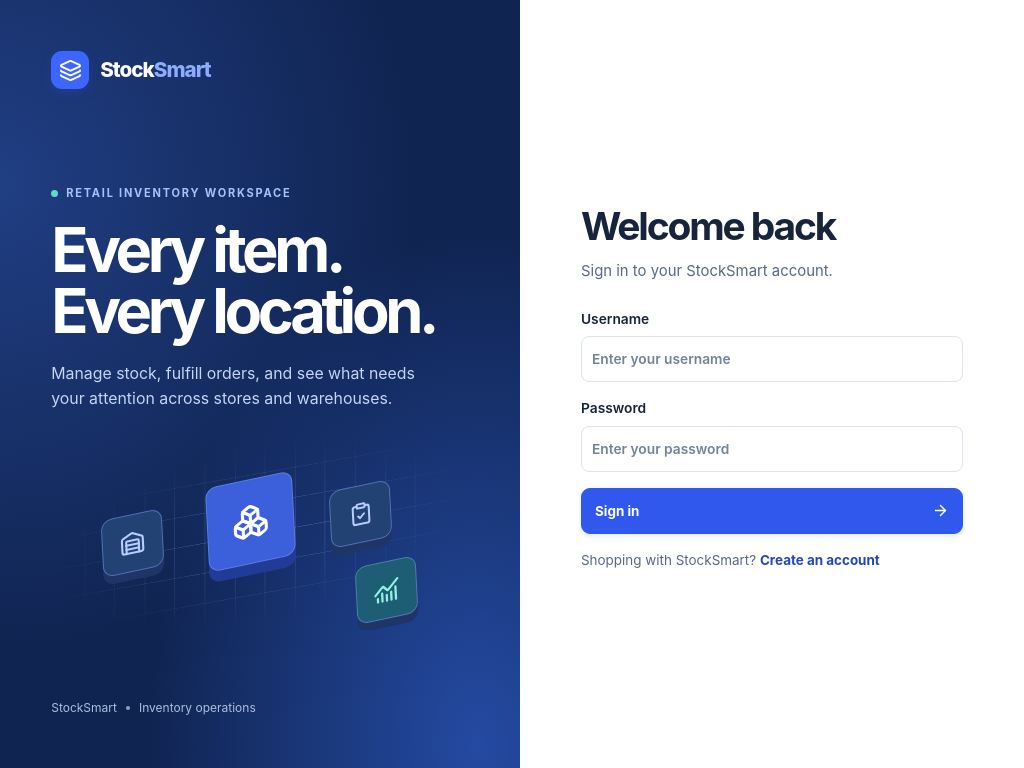
Scenario: shows an API login rejection without losing the form
The width and height of the screenshot is (1024, 768).
Type "sam" into the field labelled "Username".
click(772, 359); type("sam")  # box 581,336 -> 962,382
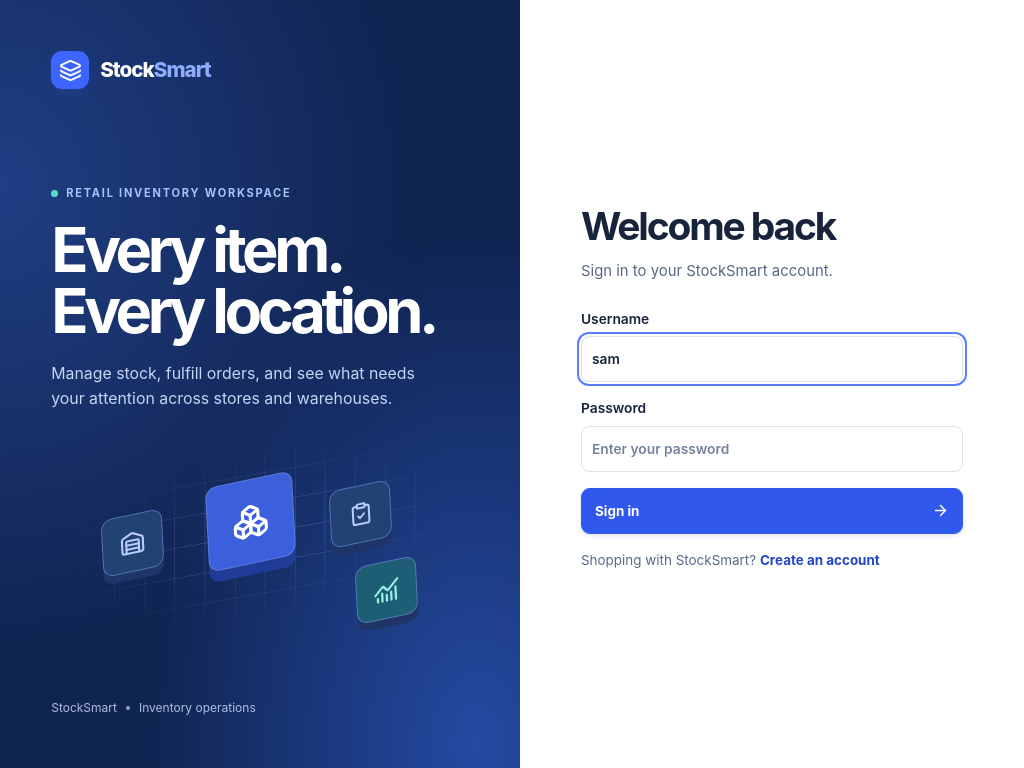
Type "wrong-password" into the password field labelled "Password".
click(772, 449); type("wrong-password")  # box 581,426 -> 962,472
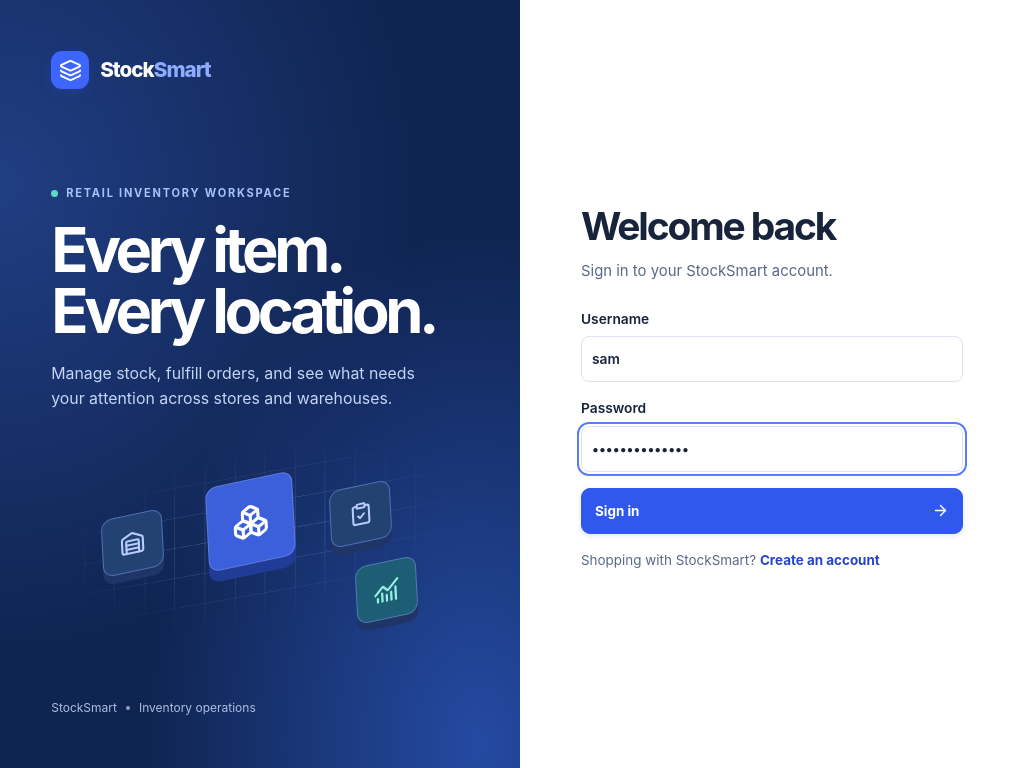
Click the button "Sign in".
click(617, 511)  # box 581,488 -> 962,534
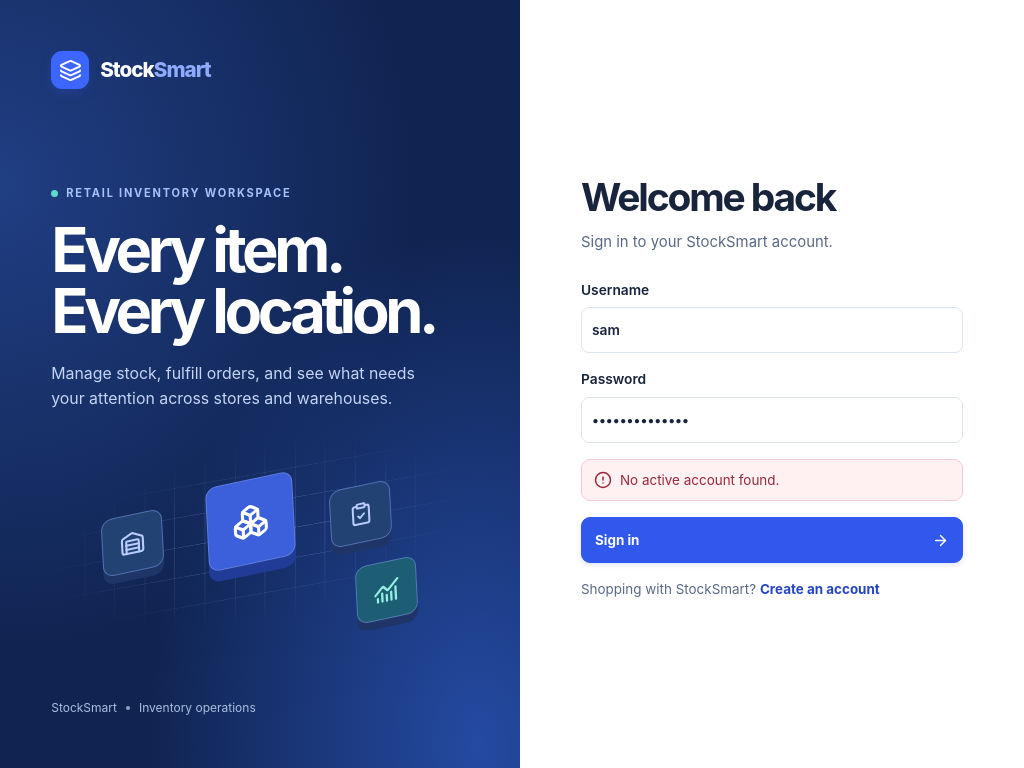
Now the message reads "No active account found.", box 620,472 -> 779,488
